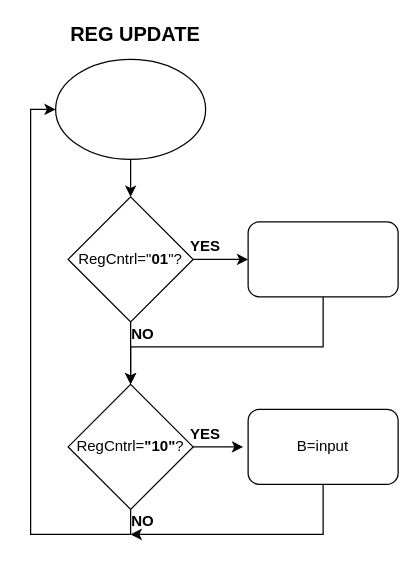
Some shapes in this 420 by 566 pixel diagram are drawn without their labels. Here are the shapes that lost their labels. From the top down, the centre of each, then its label:
(130,108): START
(322,259): A=input
